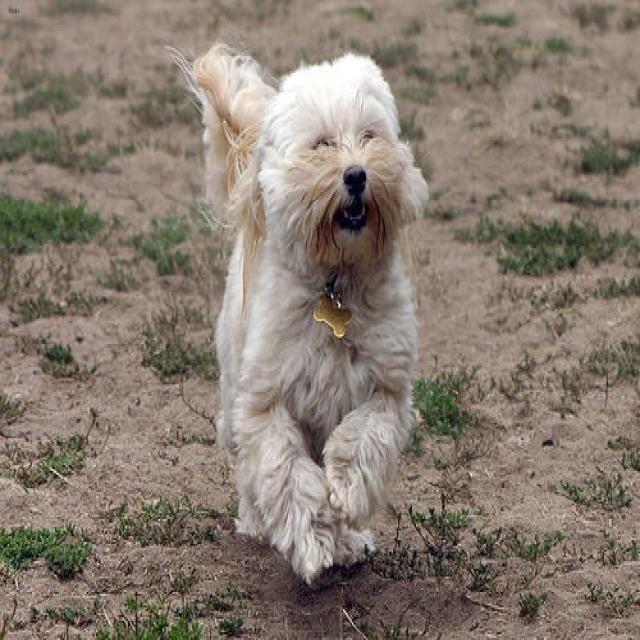dog-havanese: (156, 33, 435, 603)
